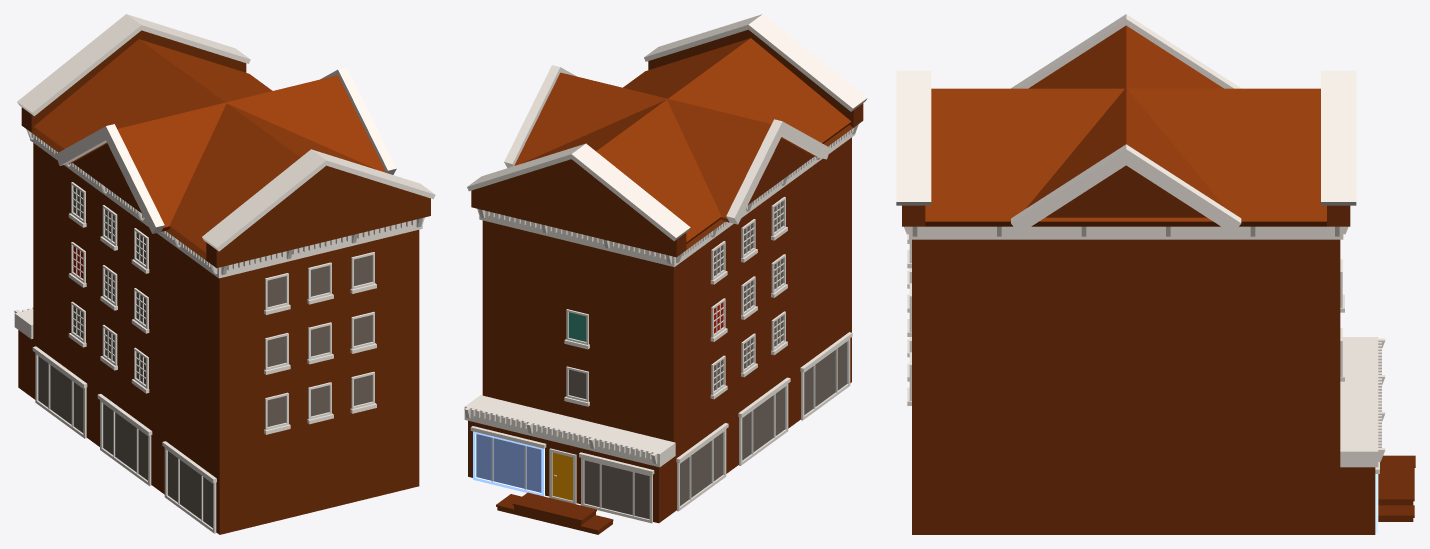
Rendered from Testing_1_v22.glb.
3 renders of one model, left to right at view 1: azimuth 30°, elevation 25°; view 2: azimuth 150°, elevation 25°; view 3: azimuth 270°, elevation 25°, orthographic. The views are drawn at different scales.
Parts seen in each view (by area): view 1: Apartments, FirstFloor, Roof_1, Roof_7, Roof_5, Trim_218, Trim_217, Roof_4, Trim, Trim_220, Glass_34, Glass_32 (+18 smaller); view 2: Apartments, Roof_1, FirstFloor, Roof_7, FirstFloor_1, Roof_3, Trim_221, Trim_218, Trim_217, Roof_2, Trim, Glass_31 (+17 smaller); view 3: Apartments, Roof_1, FirstFloor, Roof_7, Trim, Trim_221, Trim_219, Trim_217, Trim_218, Roof_6, Trim_220, FirstFloor_1 (+1 smaller).
Part boxes in pixels (x1=…): Apartments: x1=33, y1=143, x2=419, y2=456; FirstFloor: x1=33, y1=320, x2=419, y2=534; Roof_1: x1=34, y1=39, x2=379, y2=253; Roof_7: x1=69, y1=75, x2=385, y2=231; Roof_5: x1=224, y1=165, x2=428, y2=247; Trim_218: x1=202, y1=149, x2=435, y2=251; Trim_217: x1=17, y1=14, x2=250, y2=116; Roof_4: x1=206, y1=198, x2=430, y2=268; Trim: x1=26, y1=129, x2=424, y2=278; Trim_220: x1=56, y1=124, x2=164, y2=233; Glass_34: x1=38, y1=356, x2=83, y2=432; Glass_32: x1=167, y1=451, x2=212, y2=528; Apartments: x1=482, y1=137, x2=851, y2=437; Roof_1: x1=521, y1=38, x2=851, y2=243; FirstFloor: x1=482, y1=307, x2=851, y2=512; Roof_7: x1=514, y1=72, x2=817, y2=222; FirstFloor_1: x1=468, y1=420, x2=673, y2=523; Roof_3: x1=473, y1=159, x2=669, y2=237; Trim_221: x1=464, y1=395, x2=675, y2=467; Trim_218: x1=644, y1=14, x2=867, y2=111; Trim_217: x1=467, y1=143, x2=690, y2=241; Roof_2: x1=471, y1=190, x2=686, y2=257; Trim: x1=477, y1=124, x2=858, y2=266; Glass_31: x1=584, y1=460, x2=649, y2=519; Apartments: x1=912, y1=239, x2=1340, y2=444; Roof_1: x1=925, y1=88, x2=1326, y2=226; FirstFloor: x1=912, y1=445, x2=1340, y2=534; Roof_7: x1=1026, y1=25, x2=1226, y2=208; Trim: x1=904, y1=226, x2=1348, y2=239; Trim_221: x1=1340, y1=337, x2=1378, y2=467; Trim_219: x1=1011, y1=144, x2=1241, y2=233; Trim_217: x1=1321, y1=70, x2=1356, y2=205; Trim_218: x1=896, y1=70, x2=931, y2=205; Roof_6: x1=1045, y1=165, x2=1206, y2=217; Trim_220: x1=1011, y1=14, x2=1241, y2=88; FirstFloor_1: x1=1340, y1=467, x2=1375, y2=534.
Bounding box in the file's own units: 13.68 × 19.91 × 22.23.
